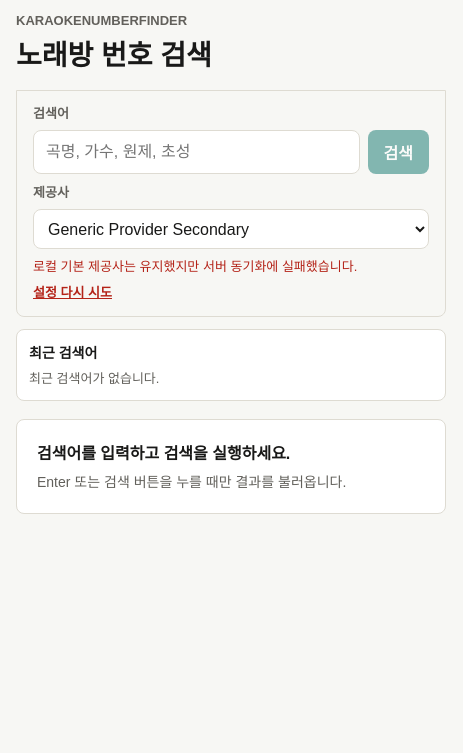
Test: MobileSearchPage › keeps local state and public search usable when server seeding fails
Expected: the dropdown labelled "제공사" shows "Generic Provider Secondary", [33,209,429,249]
Type "sample title" into the search field labelled "검색어" at x=196, y=152, box [33,130,360,174]
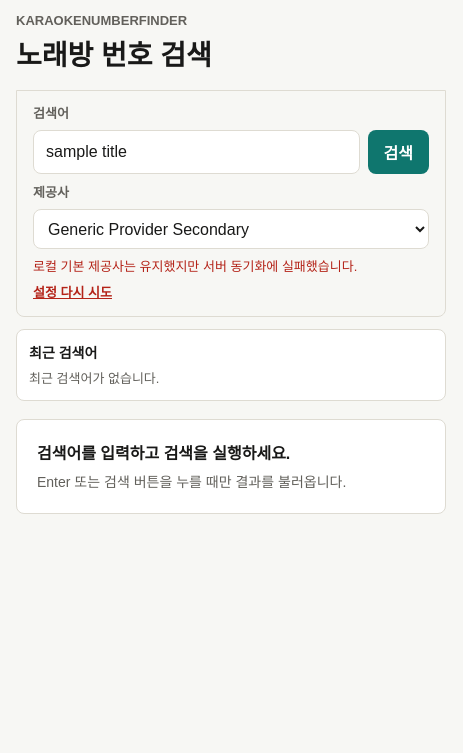
Submit the form, box [33,103,429,302]
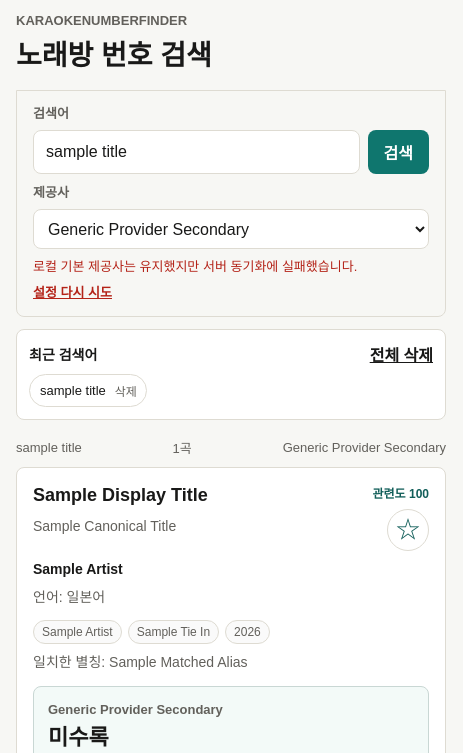
Expected: the heading "Sample Display Title" is shown, [33,485,208,505]
